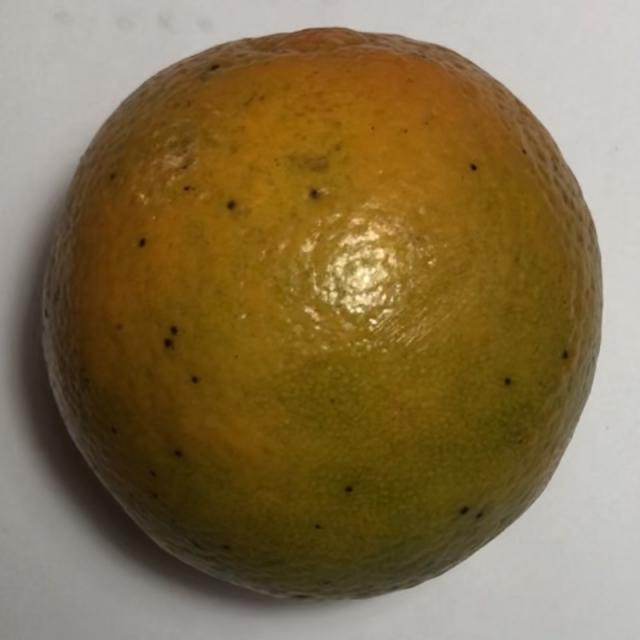blackspot: (20, 4, 614, 618)
